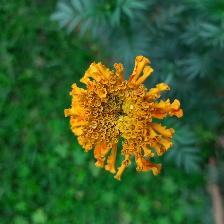marigold: (66, 58, 188, 178)
